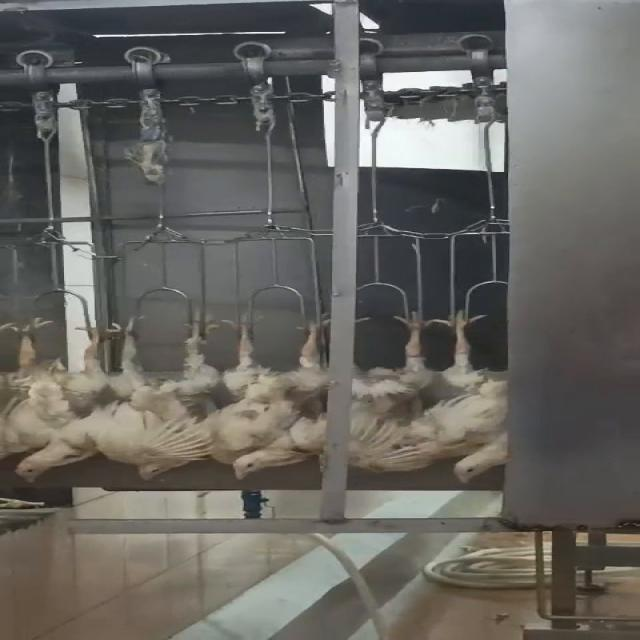chicken: (212, 304, 346, 483), (101, 304, 227, 483), (0, 310, 117, 487), (409, 308, 508, 490), (345, 306, 443, 475)
